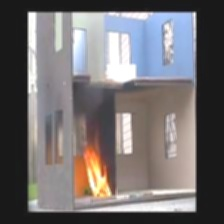fire: (80, 143, 115, 202)
